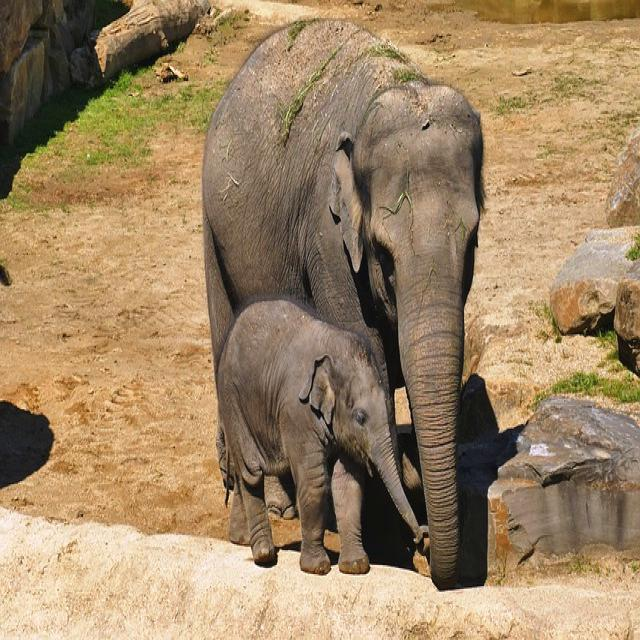FIL: (200, 13, 487, 593), (219, 300, 429, 577)
